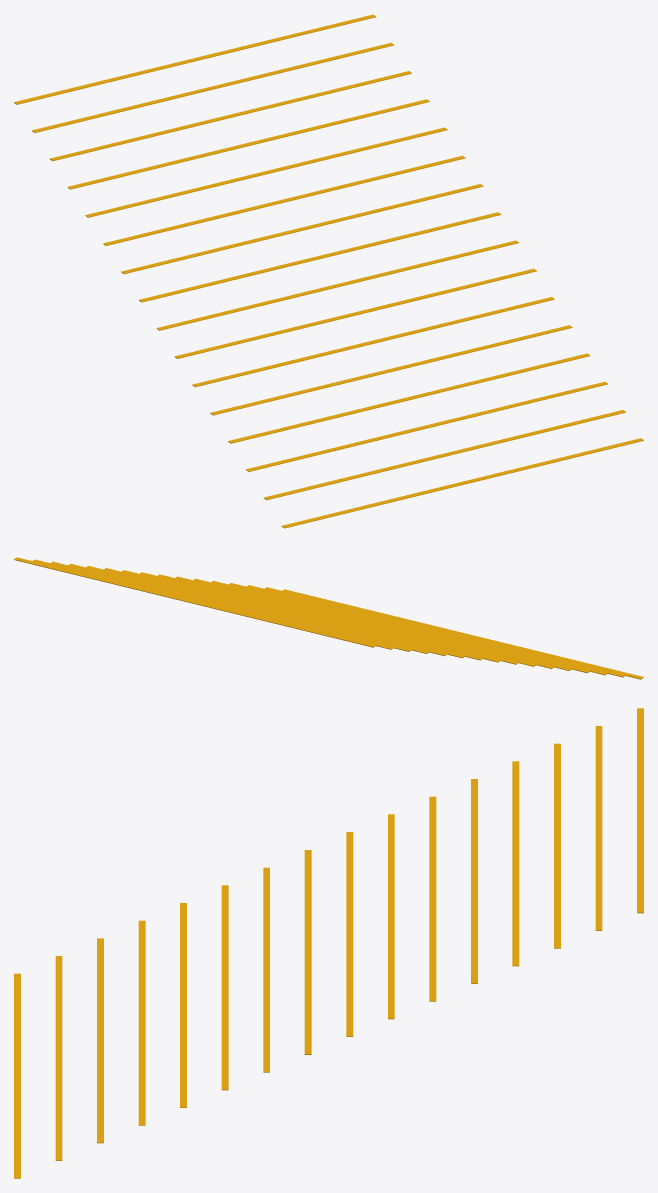
Rendered from gteki_ik_stair_n16_r1555_t331_w3868_nosing.glb.
3 views of the same model, one above another, from view 1: azimuth 30°, elevation 25°; view 2: azimuth 150°, elevation 25°; view 3: azimuth 270°, elevation 25° (orthographic). The views are drawn at different scales.
Visible parts, largest first — view 1: VIS_body; view 2: VIS_body; view 3: VIS_body.
Part boxes in pixels (box(x1,y1,x2,y2)): VIS_body: box(14, 14, 643, 528); VIS_body: box(14, 557, 643, 679); VIS_body: box(14, 708, 643, 1178).
Size of the model in its own units: 3.85 by 2.34 by 5.02.
Materials: 1 (1 with a texture image).
